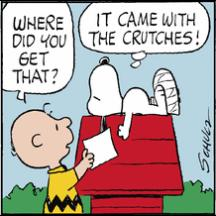charlie: (9, 101, 95, 215)
snoopy: (84, 54, 181, 140)
